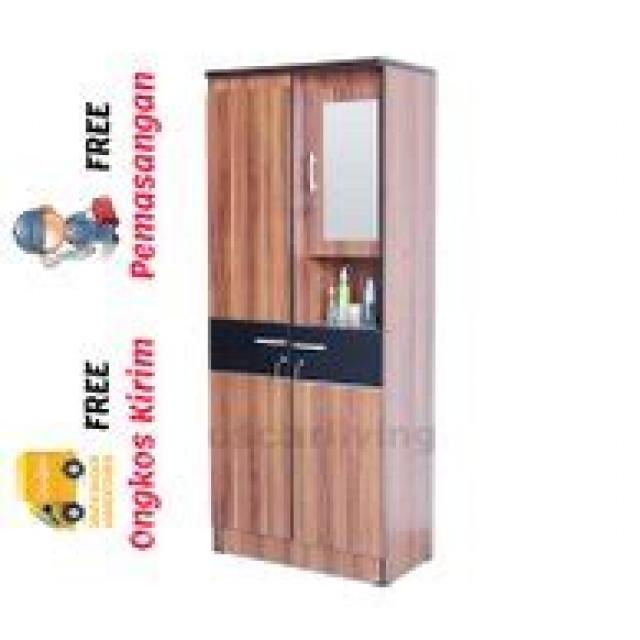Closet: (196, 52, 452, 595)
